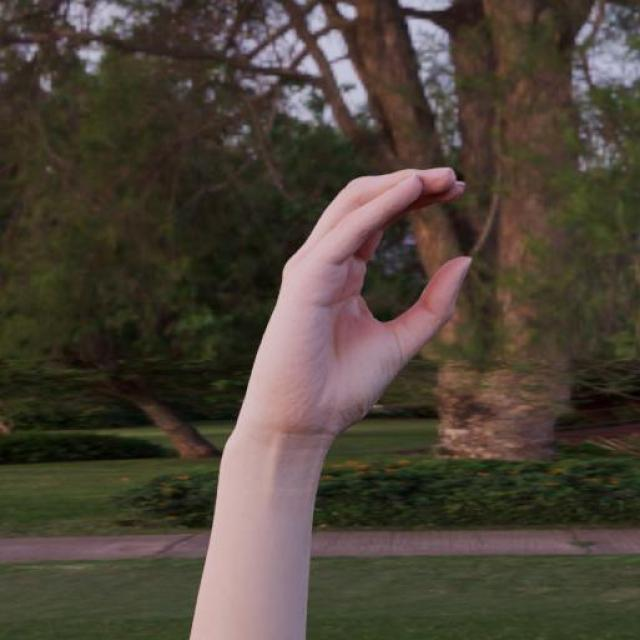C: (226, 151, 483, 463)
